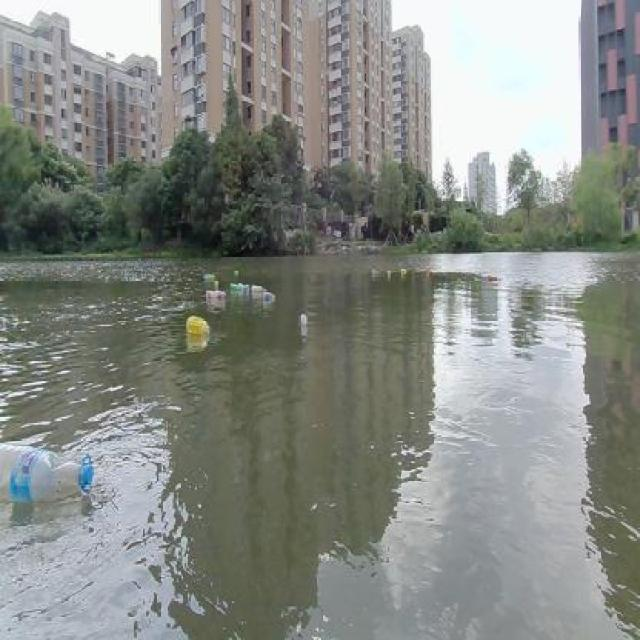Bottle: (0, 433, 109, 509), (176, 310, 217, 344), (294, 310, 320, 338), (203, 288, 229, 304), (200, 272, 222, 286), (228, 280, 250, 293), (261, 292, 279, 306)
Waste: (230, 264, 240, 278)
